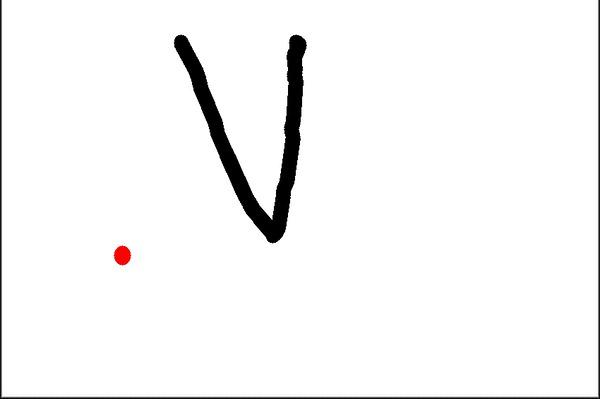V: (166, 23, 325, 251)
